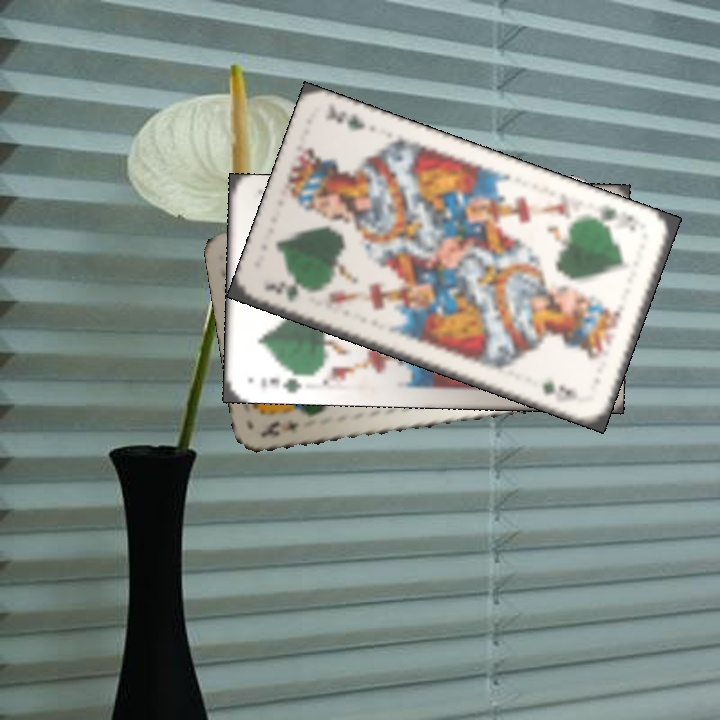EK: (258, 416, 301, 439)
GK: (256, 368, 308, 396), (259, 278, 302, 306), (590, 202, 635, 226)
